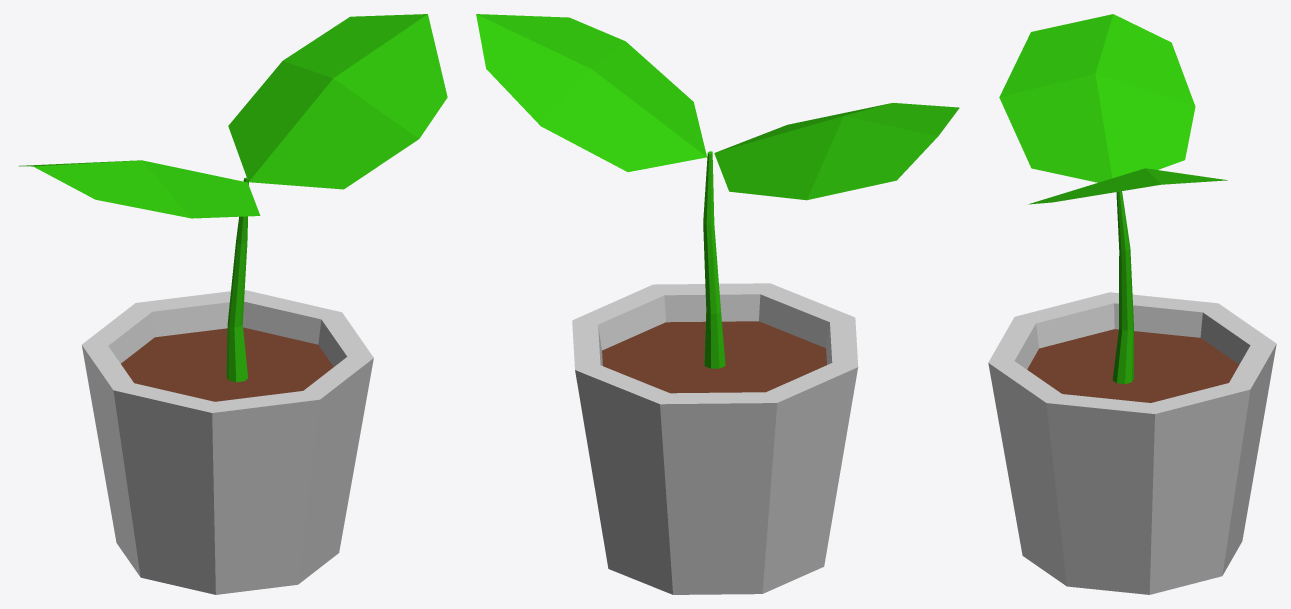
File: roots.glb
3 renders of one model, left to right at view 1: azimuth 30°, elevation 25°; view 2: azimuth 150°, elevation 25°; view 3: azimuth 270°, elevation 25°, orthographic. The views are drawn at different scales.
Visible parts, largest first — view 1: Circle; view 2: Circle; view 3: Circle.
Boxes of the visible parts, x1,y1,x2,y2 form: Circle: [18, 14, 447, 594]; Circle: [476, 14, 959, 594]; Circle: [988, 14, 1276, 594].
Bounding box in the file's own units: 0.5391 × 0.5789 × 0.3235.
